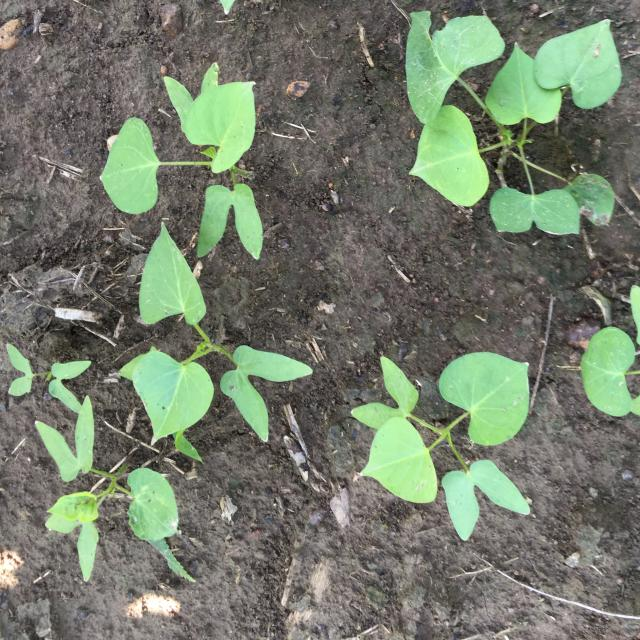MorningGlory: (406, 11, 622, 234), (118, 222, 313, 463), (351, 352, 531, 540), (100, 62, 263, 260), (35, 395, 179, 582), (580, 285, 640, 417), (7, 343, 91, 414)
